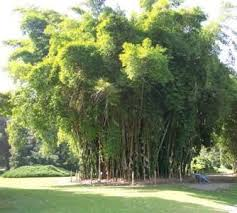bamboo: (2, 1, 194, 176), (143, 1, 235, 153)
